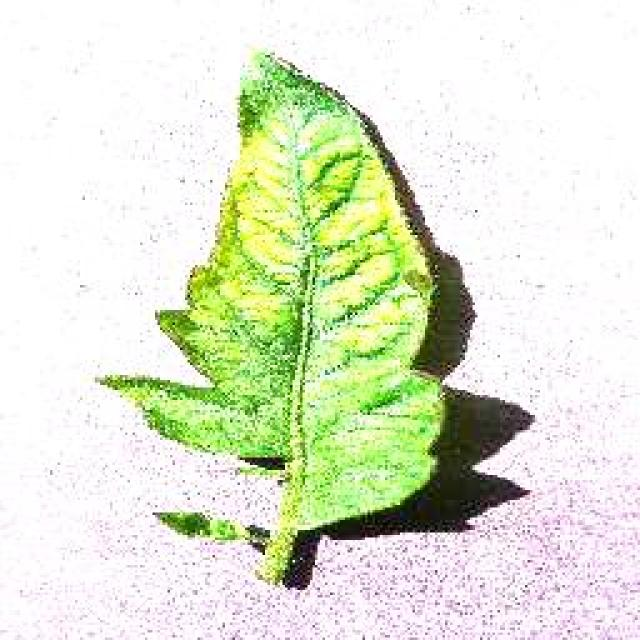Tomato___Tomato_mosaic_virus: (102, 52, 442, 580), (160, 512, 258, 540)
